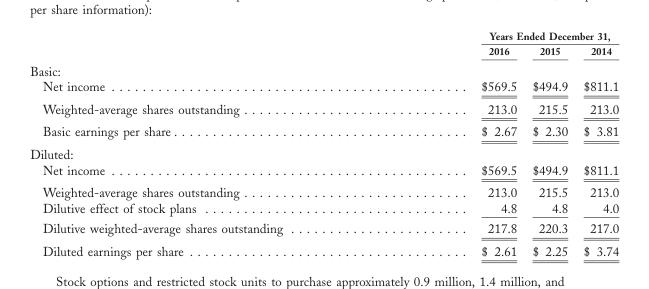table: (29, 28, 618, 258)
table column: (29, 28, 381, 258), (381, 28, 523, 258), (523, 28, 574, 258), (574, 28, 618, 258)
table column header: (29, 28, 618, 59)
table projected row header: (29, 59, 618, 78), (29, 142, 618, 161)
table row: (29, 119, 618, 142), (29, 97, 618, 119), (29, 217, 618, 239), (29, 59, 618, 78), (29, 78, 618, 97), (29, 142, 618, 161), (29, 161, 618, 180), (29, 180, 618, 199), (29, 239, 618, 258), (29, 199, 618, 217), (29, 42, 618, 59), (29, 28, 618, 42)
table spanning cell: (381, 28, 618, 42)
